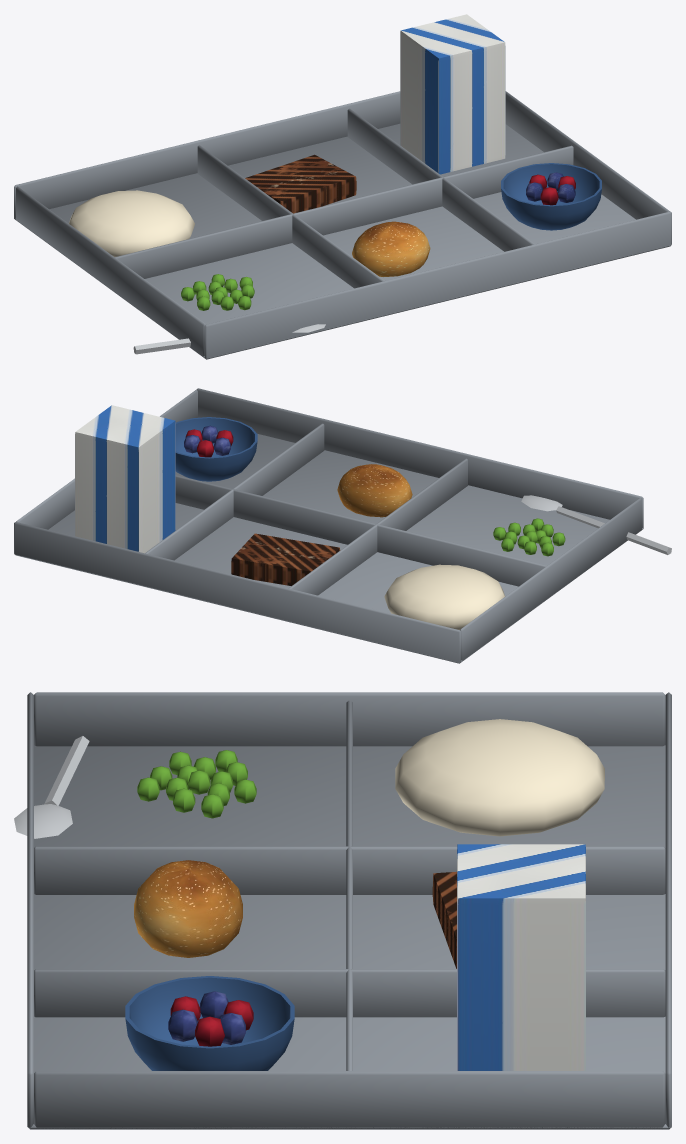
The model's file is tray_meal_tray_steel.glb.
3 renders of one model, top to bottom at view 1: azimuth 30°, elevation 25°; view 2: azimuth 150°, elevation 25°; view 3: azimuth 270°, elevation 25°, orthographic. The views are drawn at different scales.
Visible parts, largest first — view 1: tray_meal_tray_steel; view 2: tray_meal_tray_steel; view 3: tray_meal_tray_steel.
Boxes of the visible parts, box(x1,y1,x2,y2) form: tray_meal_tray_steel: box(14, 14, 671, 359); tray_meal_tray_steel: box(14, 388, 671, 663); tray_meal_tray_steel: box(14, 692, 671, 1129).
Size of the model in its own units: 0.4641 by 0.11 by 0.3062.
Materials: 10 (5 with a texture image).
